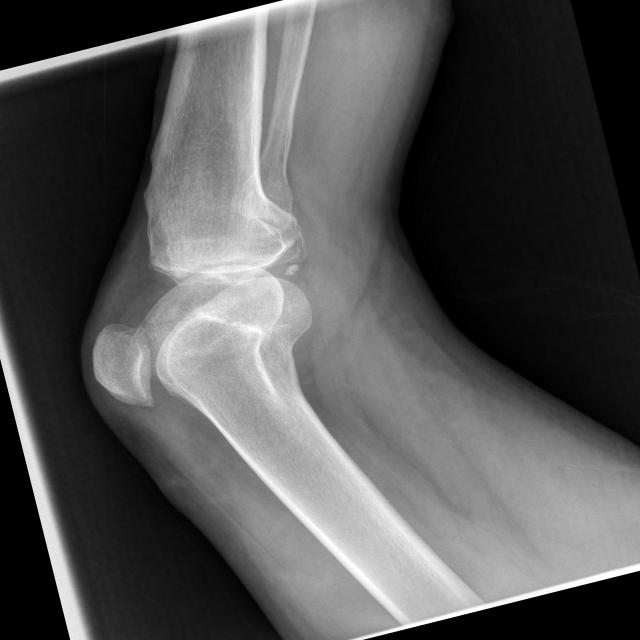Knee: (64, 199, 343, 428)
